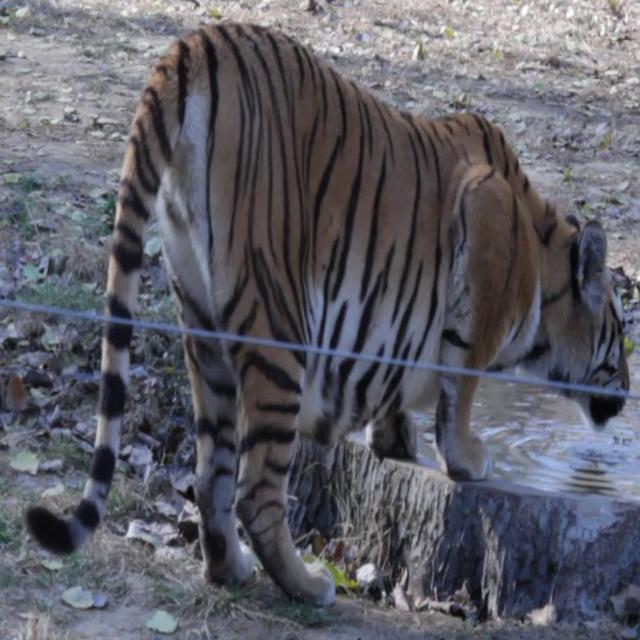tiger: (23, 19, 633, 607)
